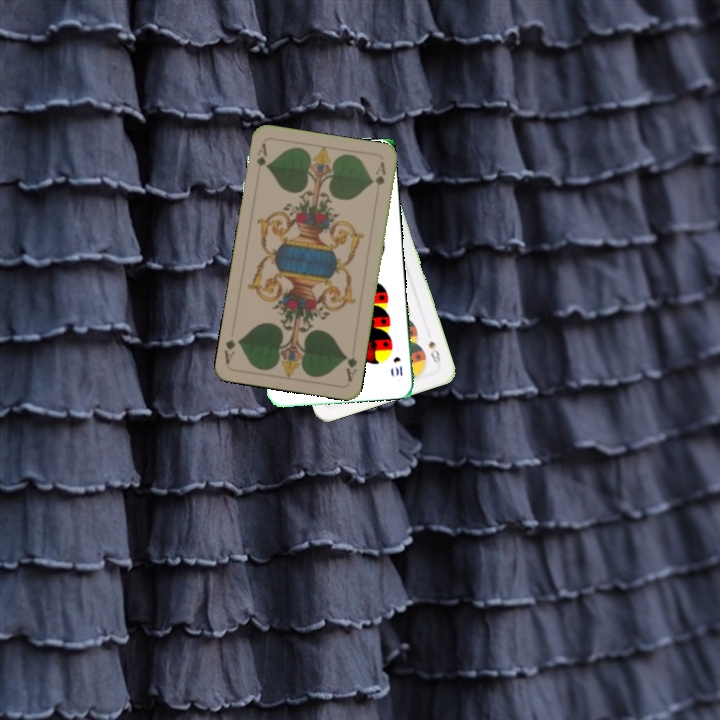GA: (341, 352, 360, 384), (252, 138, 270, 170)
S10: (390, 353, 405, 378)
S8: (424, 337, 443, 367)
